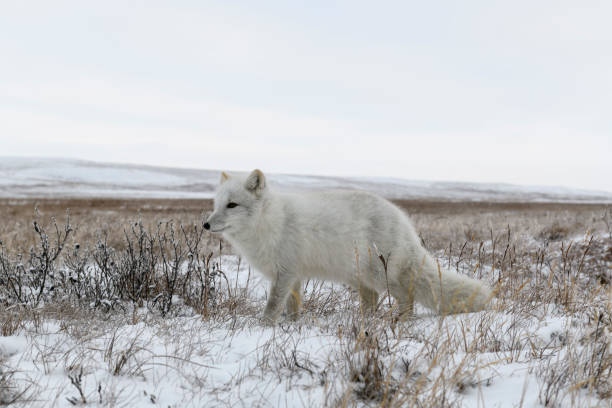arcticfox: (195, 182, 265, 254)
